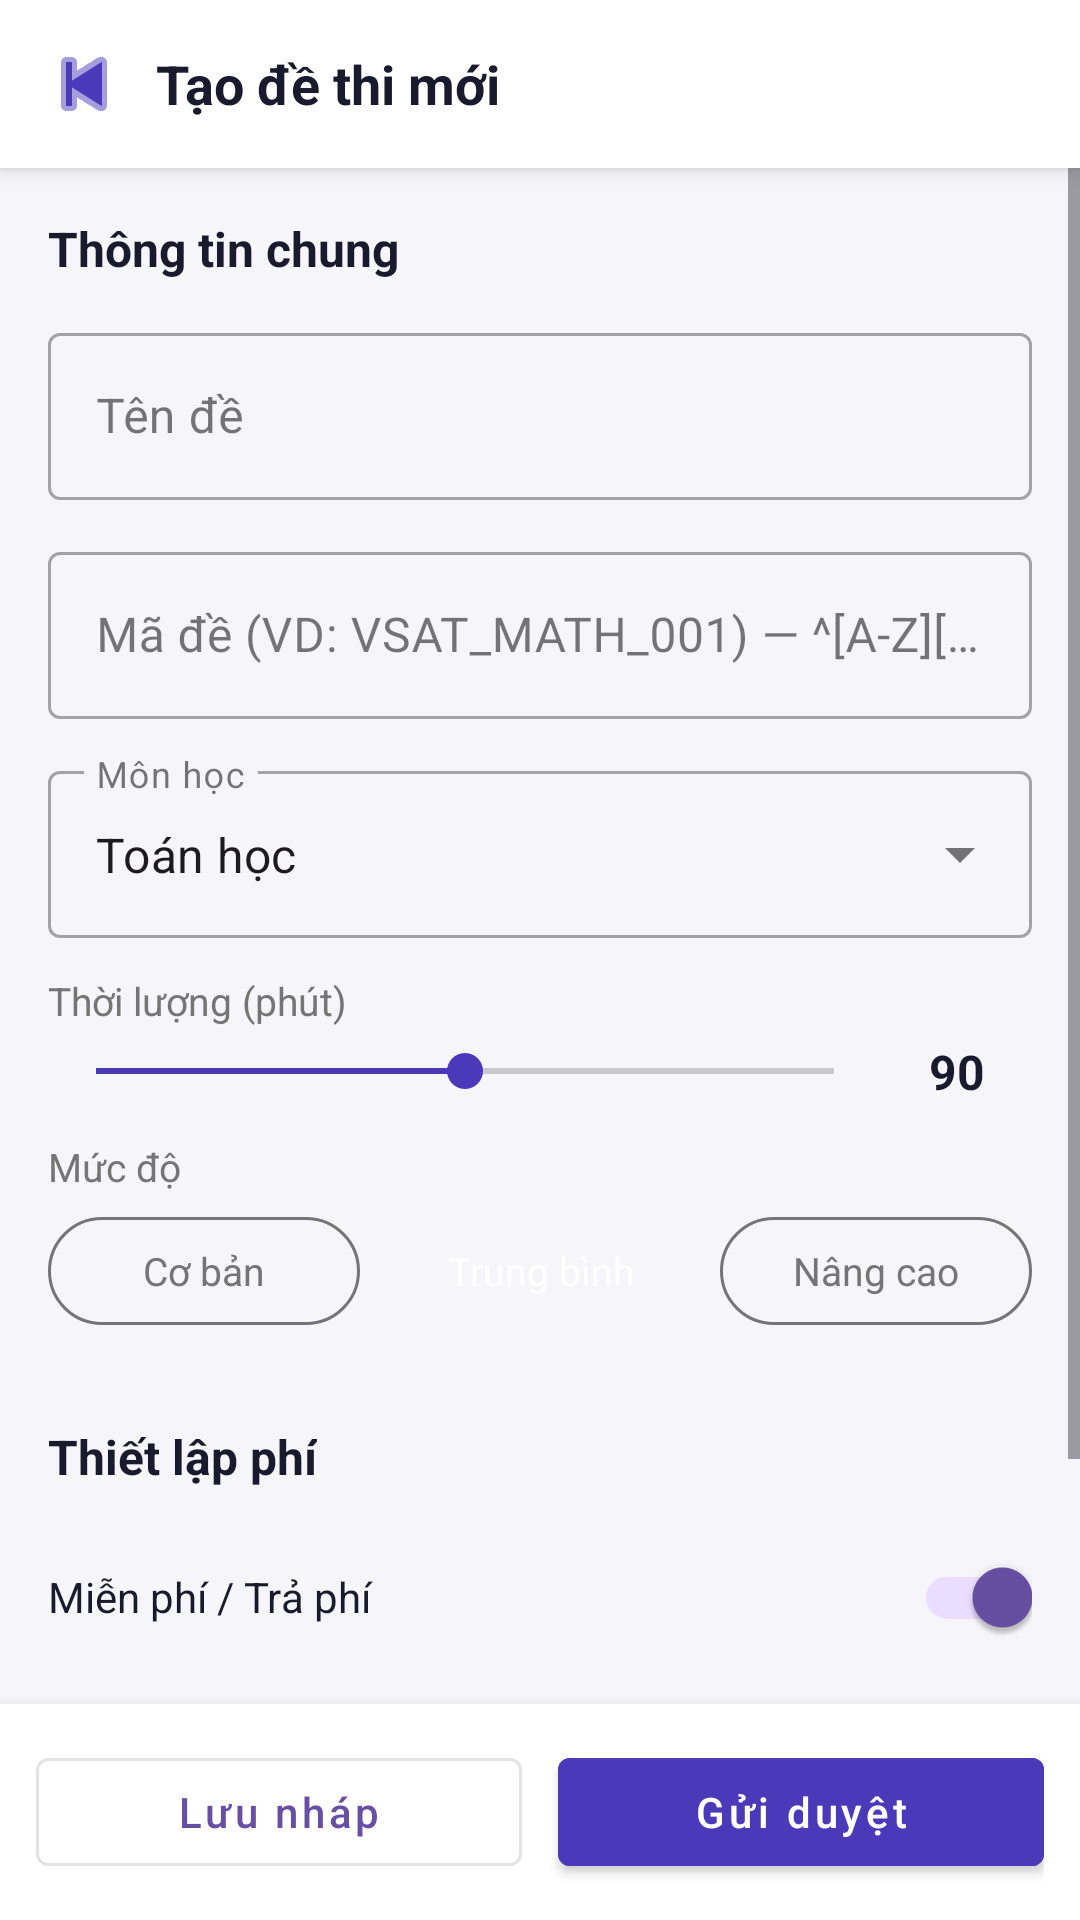

Icons on this 1080x1920 Android screen, each with its box as bbox(x1, y1, x2, y2):
previous: bbox(61, 57, 107, 111)
